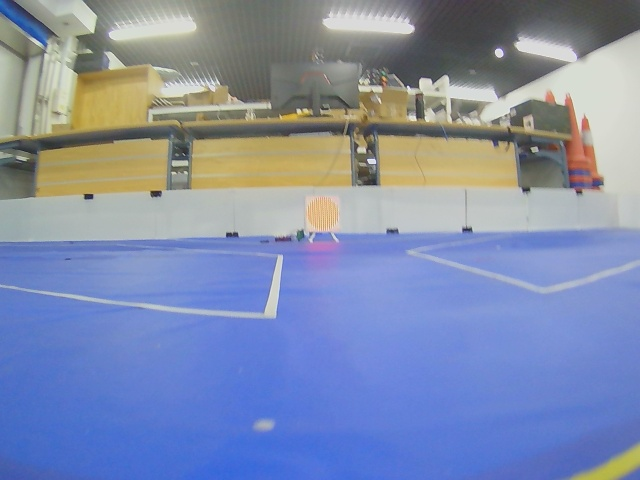red: (305, 196, 340, 234)
